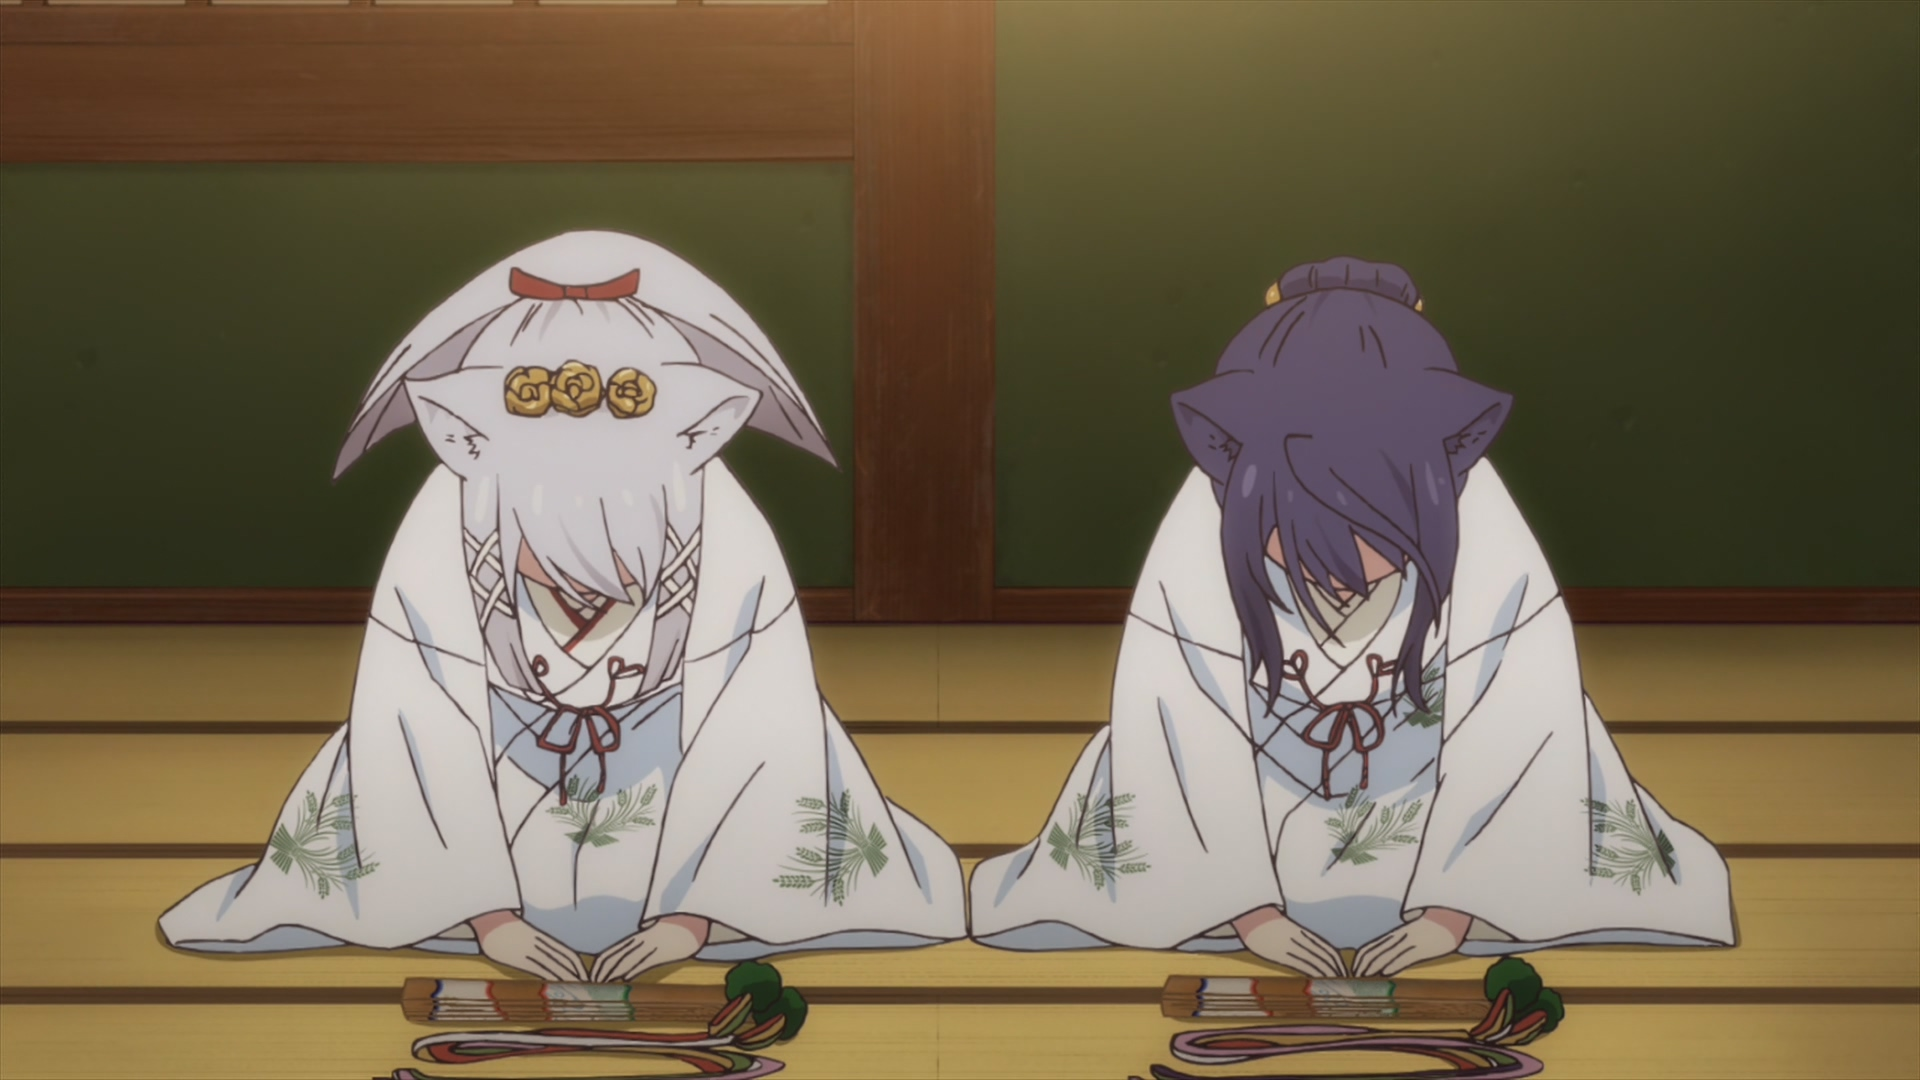柊: (160, 231, 964, 978)
皋: (971, 258, 1733, 976)
